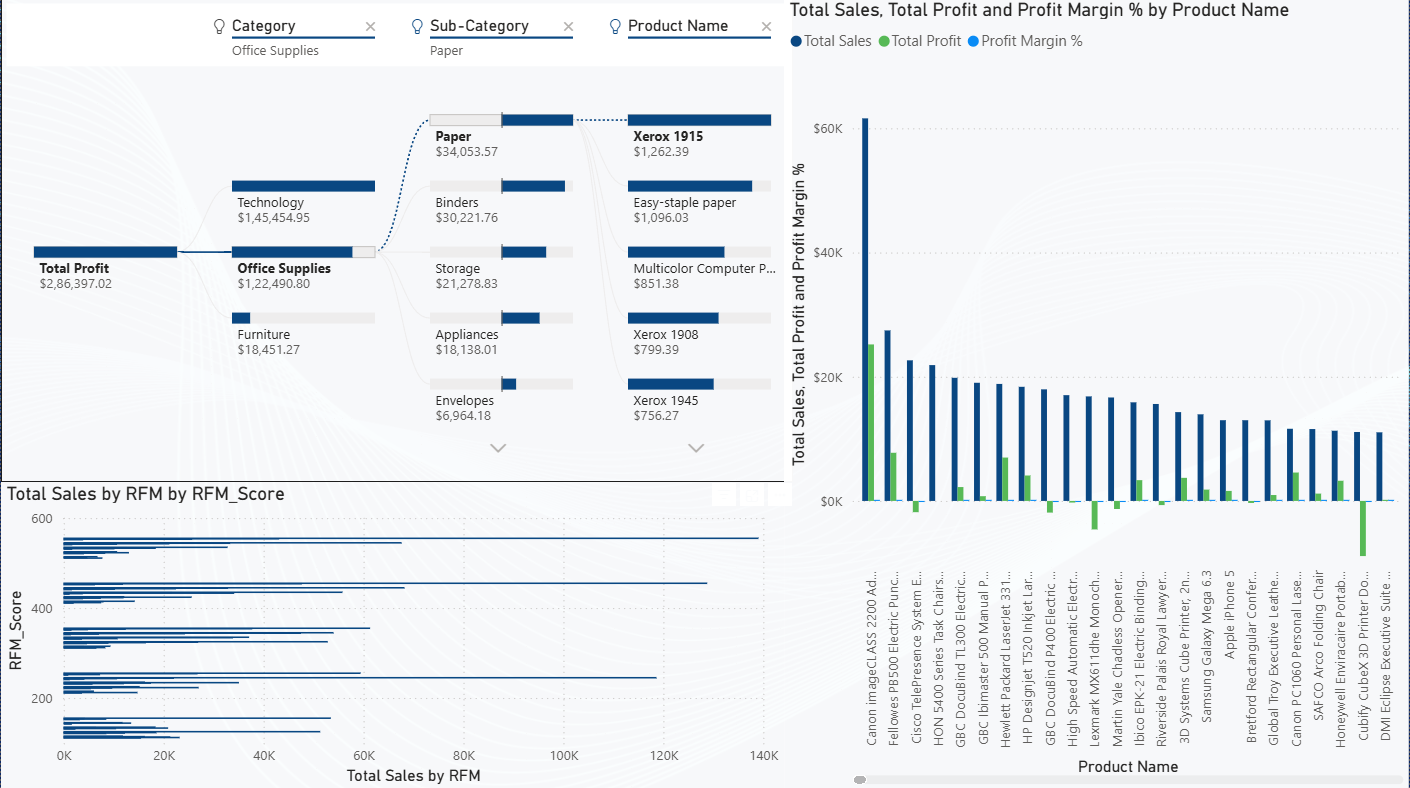

The page's visual inventory and layout, read from the dashboard file:
{"tool":"powerbi","page":{"name":"Deep Dive","canvas":[1280,720],"ordinal":1},"visuals":[{"type":"decompositionTreeVisual","fields":{"Analyze":["cleaned_superstore.Total Profit"],"ExplainBy":["cleaned_superstore.Category","cleaned_superstore.Sub-Category","cleaned_superstore.Product Name"]},"box":[0,0,720,440],"z":0},{"type":"clusteredColumnChart","fields":{"Category":["cleaned_superstore.Product Name"],"Y":["cleaned_superstore.Total Sales","cleaned_superstore.Total Profit","cleaned_superstore.Profit Margin %"]},"box":[712,0,568,720],"z":1},{"type":"clusteredBarChart","fields":{"Category":["rfm_segmented.RFM_Score"],"Y":["rfm_segmented.Total Sales by RFM"]},"box":[0,440,712,280],"z":2}]}

Visuals, with their boxes in screenshot pixels (x1, y1, x2, y2), scaled from the page's 1280x720 canvas onto the 1410x788 screenshot:
decompositionTreeVisual - cleaned_superstore.Total Profit x cleaned_superstore.Category: 0 0 793 482
clusteredColumnChart - cleaned_superstore.Product Name x cleaned_superstore.Total Sales: 784 0 1409 787
clusteredBarChart - rfm_segmented.RFM_Score x rfm_segmented.Total Sales by RFM: 0 482 784 787
